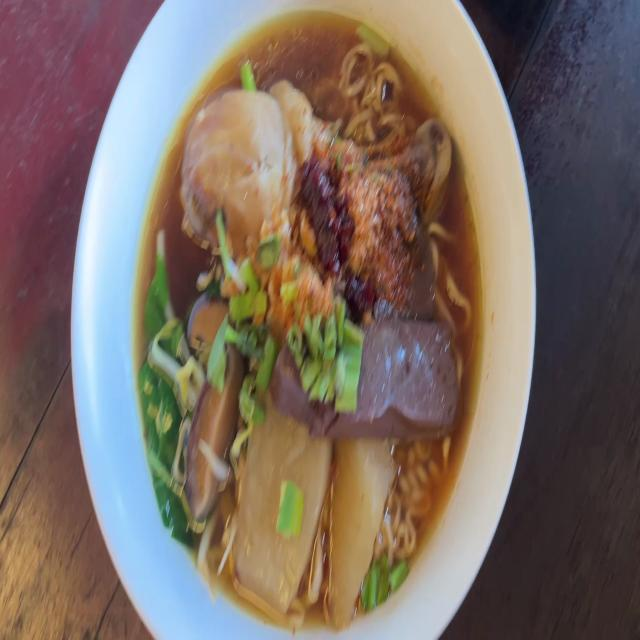noodle: (271, 322, 457, 432), (400, 220, 434, 312)
